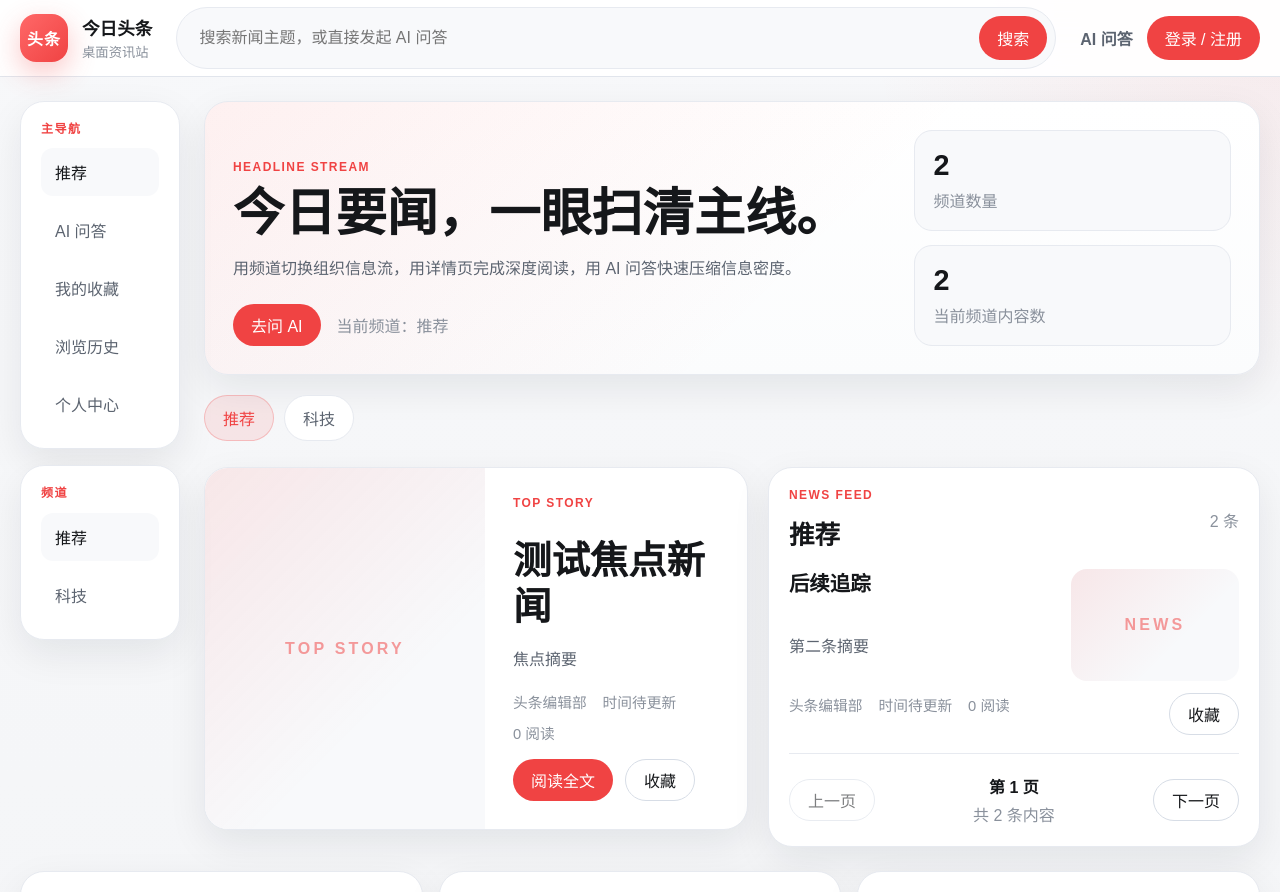
Scenario: HomePage › syncs pagination into the url and fetches the next page
Expected: the link "后续追踪" is shown, [789,572,871,595]
Click the button "下一页" at (1196, 800), box [1153,779,1239,821]
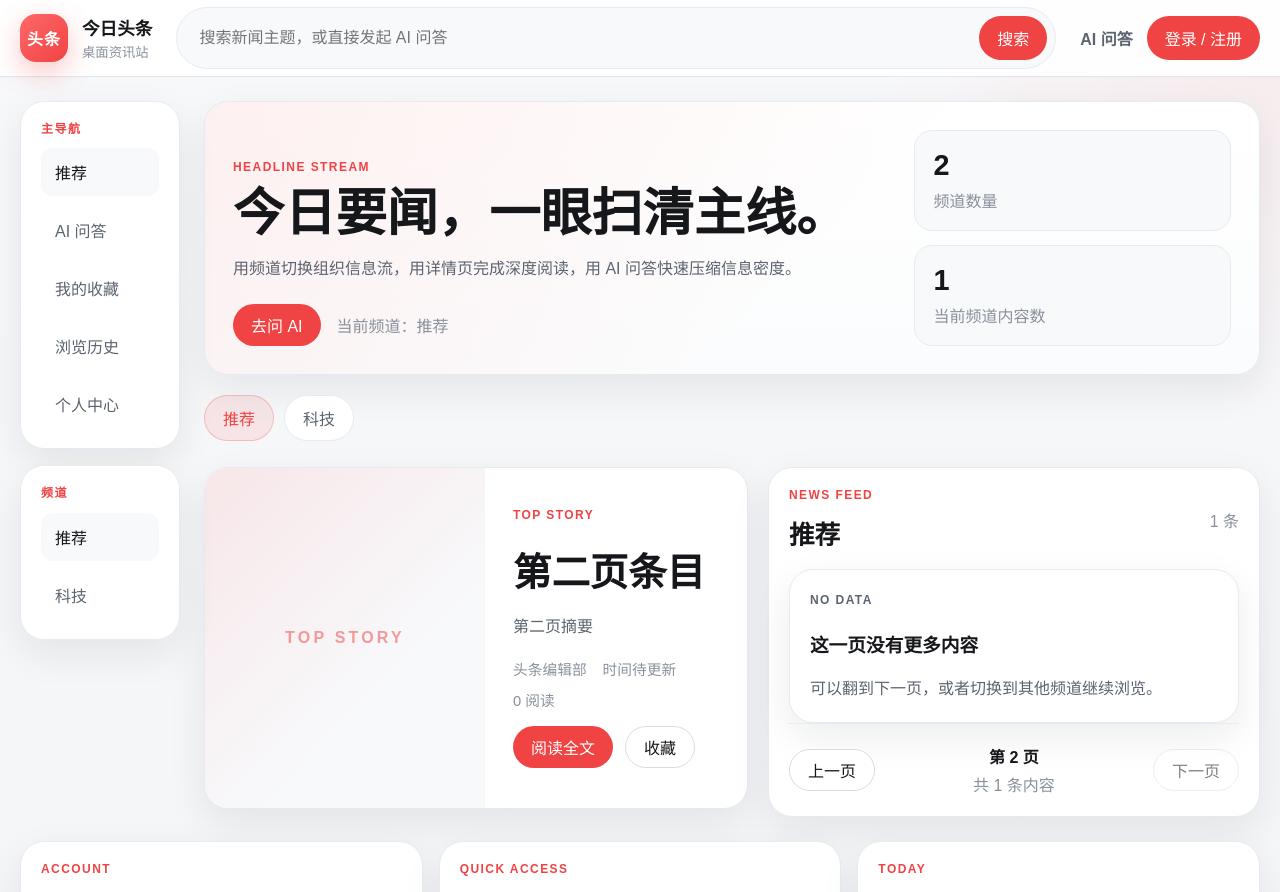
Now the heading "第二页条目" is shown, box [513,550,719,596]
